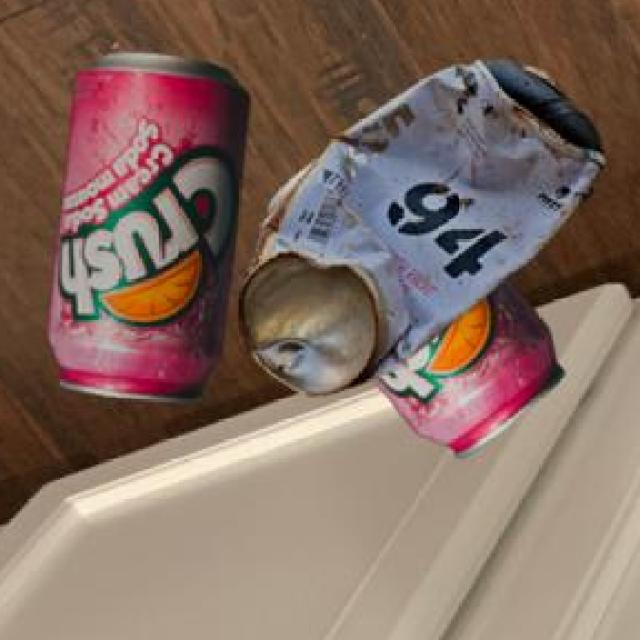logam: (241, 63, 608, 399), (52, 57, 252, 406), (377, 235, 568, 461)
